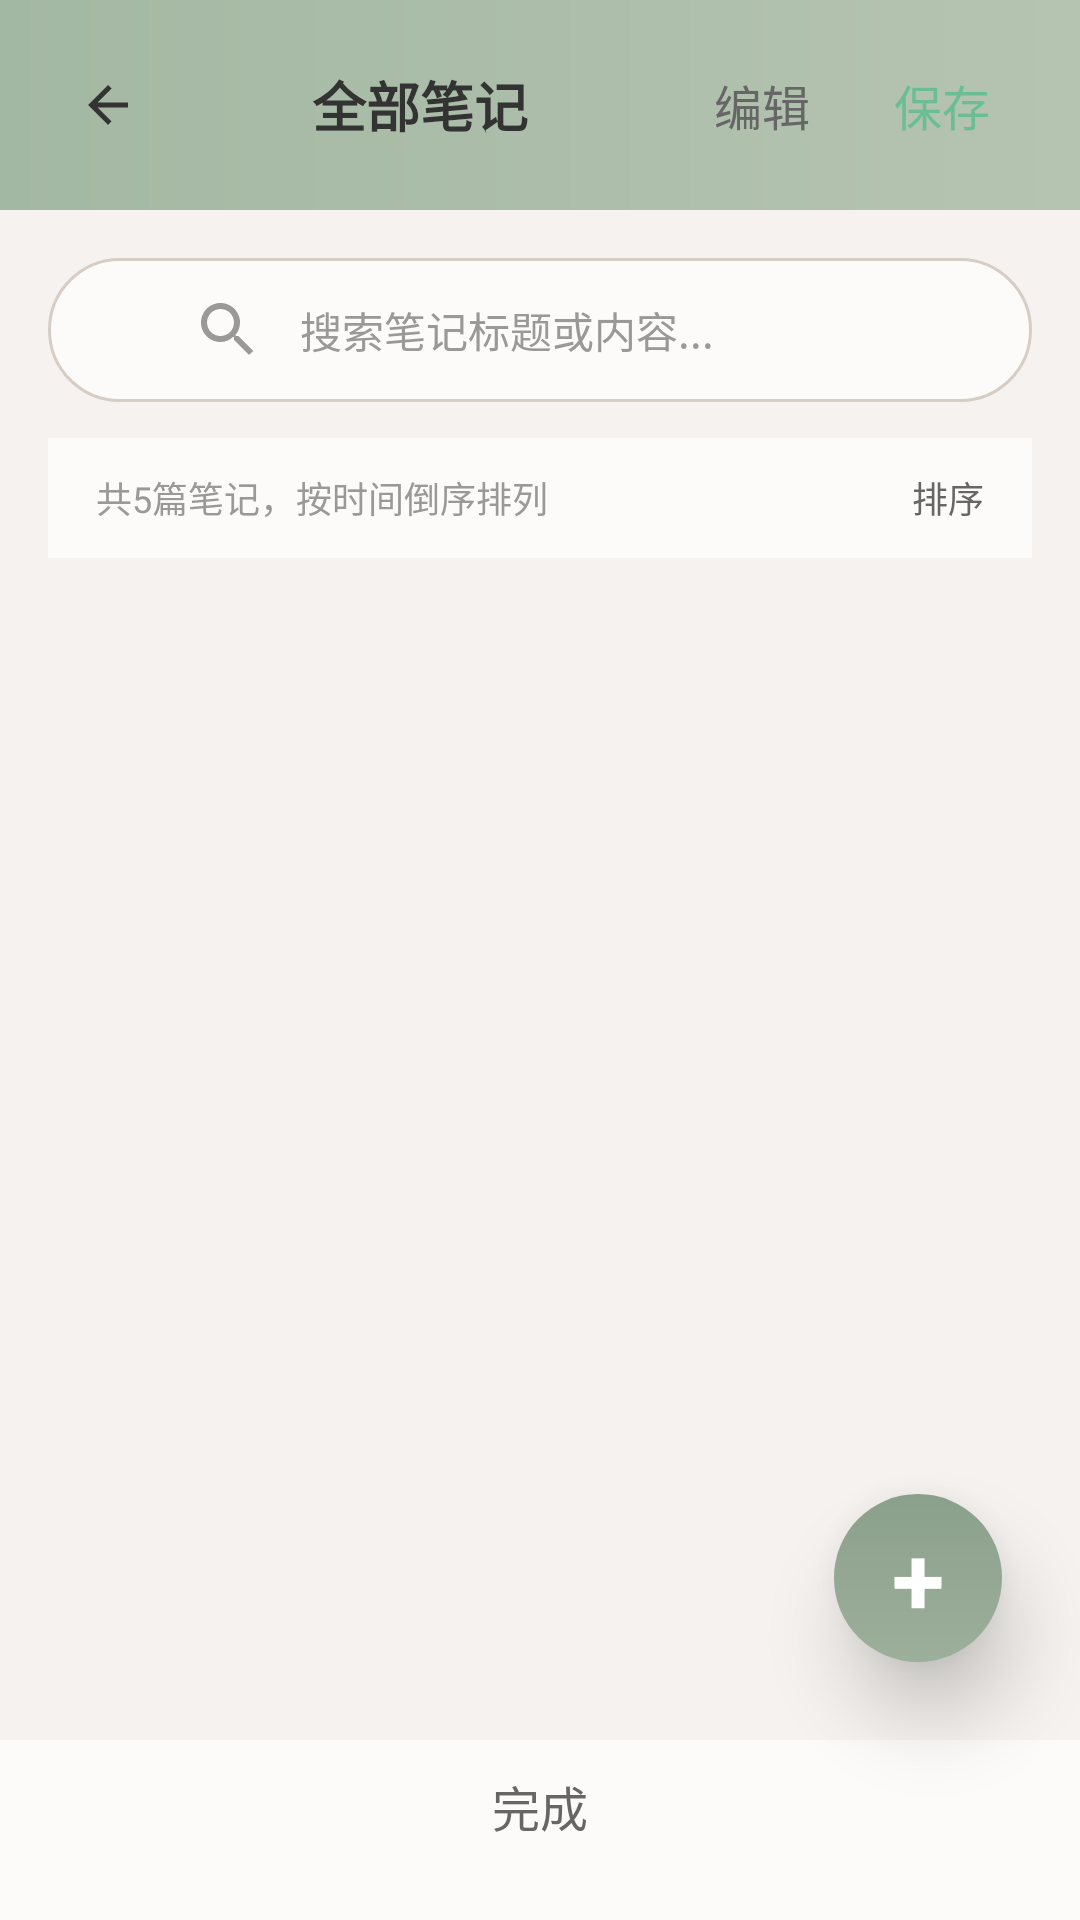

Icons on this 1080 x 1920 Android screen, each with its box as rect(x1, y1, x2, y2):
back: rect(88, 85, 128, 125)
